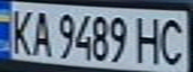4: (72, 11, 93, 61)
8: (90, 11, 112, 62)
9: (106, 12, 133, 63), (54, 9, 75, 60)
A: (27, 7, 54, 57)
C: (154, 14, 190, 66)
H: (133, 12, 166, 65)
K: (3, 6, 36, 56)
